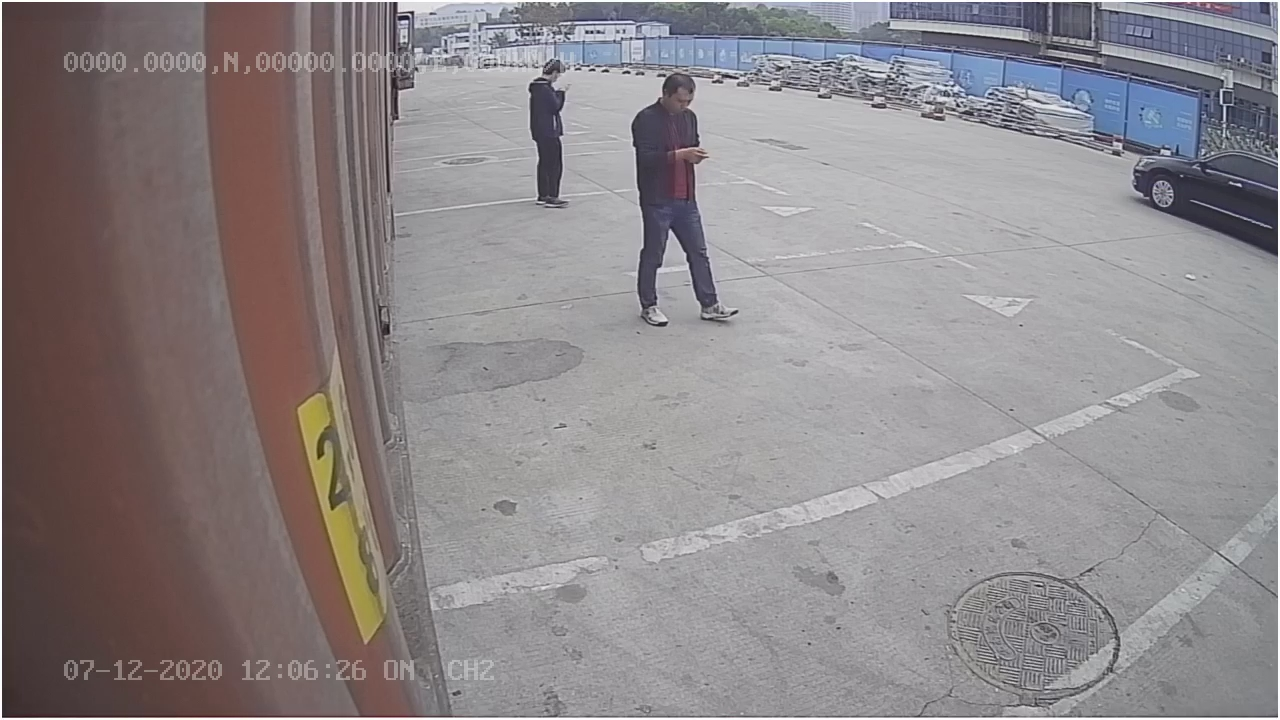person: (630, 68, 741, 334)
